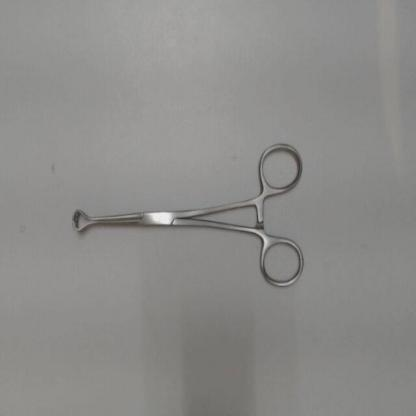Babcock Tissue Forceps: (67, 138, 307, 293)
